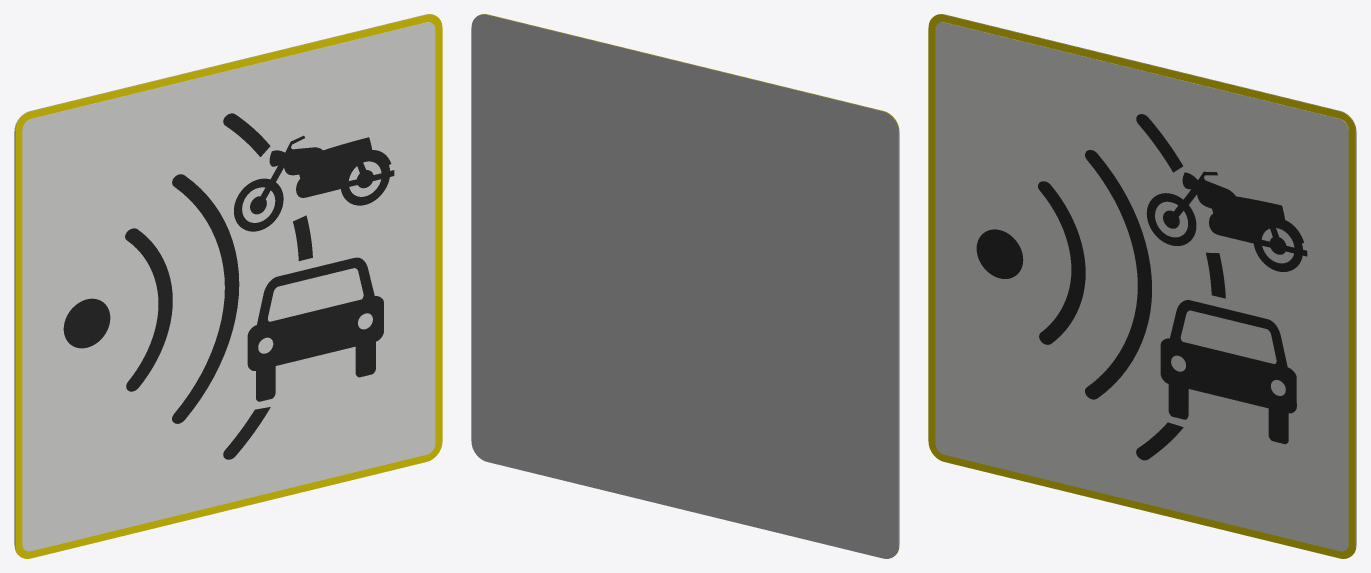
3 views of the same model, side by side, from view 1: azimuth 30°, elevation 25°; view 2: azimuth 150°, elevation 25°; view 3: azimuth 330°, elevation 25° (orthographic).
Visible parts, largest first — view 1: SR3d_p01, SR3d_p02, SR3d_p00, SR3d_dos; view 2: SR3d_dos, SR3d_p00; view 3: SR3d_p01, SR3d_p02, SR3d_p00, SR3d_dos.
Part boxes in pixels (left/top/right/bottom): SR3d_p01: left=22, top=22, right=435, bottom=551; SR3d_p02: left=63, top=113, right=394, bottom=459; SR3d_p00: left=15, top=14, right=442, bottom=558; SR3d_dos: left=14, top=14, right=433, bottom=554; SR3d_dos: left=471, top=14, right=898, bottom=558; SR3d_p00: left=480, top=14, right=899, bottom=554; SR3d_p01: left=935, top=22, right=1348, bottom=551; SR3d_p02: left=976, top=114, right=1307, bottom=460; SR3d_p00: left=928, top=14, right=1355, bottom=558; SR3d_dos: left=937, top=14, right=1356, bottom=554.
Size of the model in its own units: 0.7 by 0.6999 by 0.0027.
